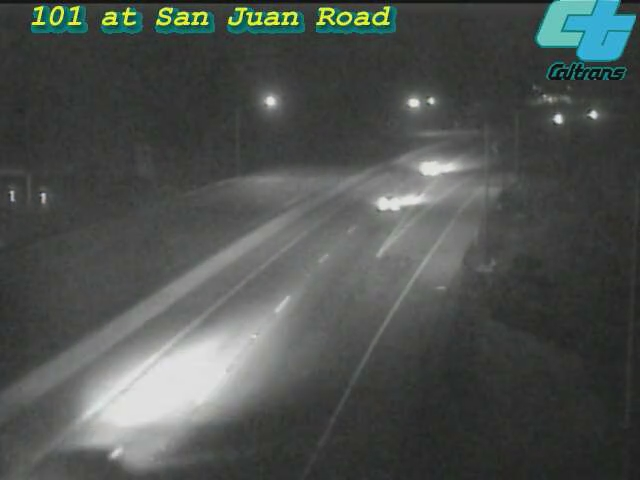vehicle: (32, 410, 142, 480), (388, 128, 468, 208), (349, 162, 429, 242), (533, 93, 583, 143), (569, 91, 619, 141)
